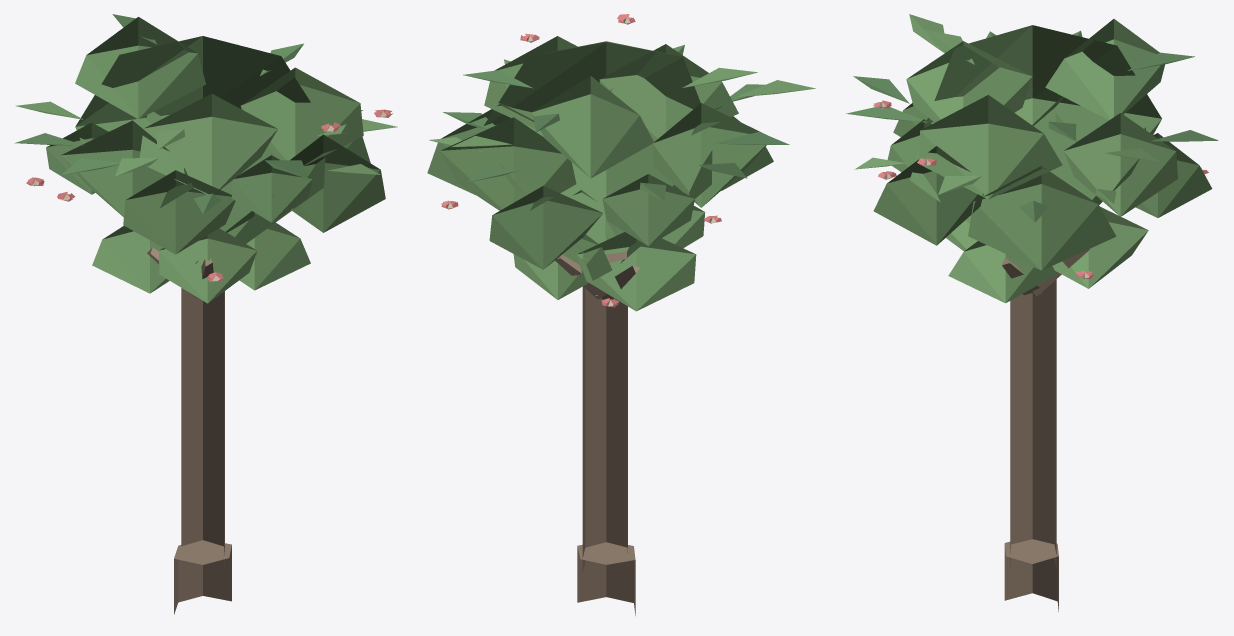
Rendered from shu.mumian__summer.glb.
3 views of the same model, side by side, from view 1: azimuth 30°, elevation 25°; view 2: azimuth 150°, elevation 25°; view 3: azimuth 270°, elevation 25° (orthographic).
Parts seen in each view (by area): view 1: shu.mumian__summer; view 2: shu.mumian__summer; view 3: shu.mumian__summer.
Boxes of the visible parts, x1=… form: shu.mumian__summer: x1=14, y1=14, x2=397, y2=614; shu.mumian__summer: x1=427, y1=14, x2=815, y2=615; shu.mumian__summer: x1=846, y1=14, x2=1218, y2=611.
Size of the model in its own units: 18.3 by 30.34 by 17.84.
